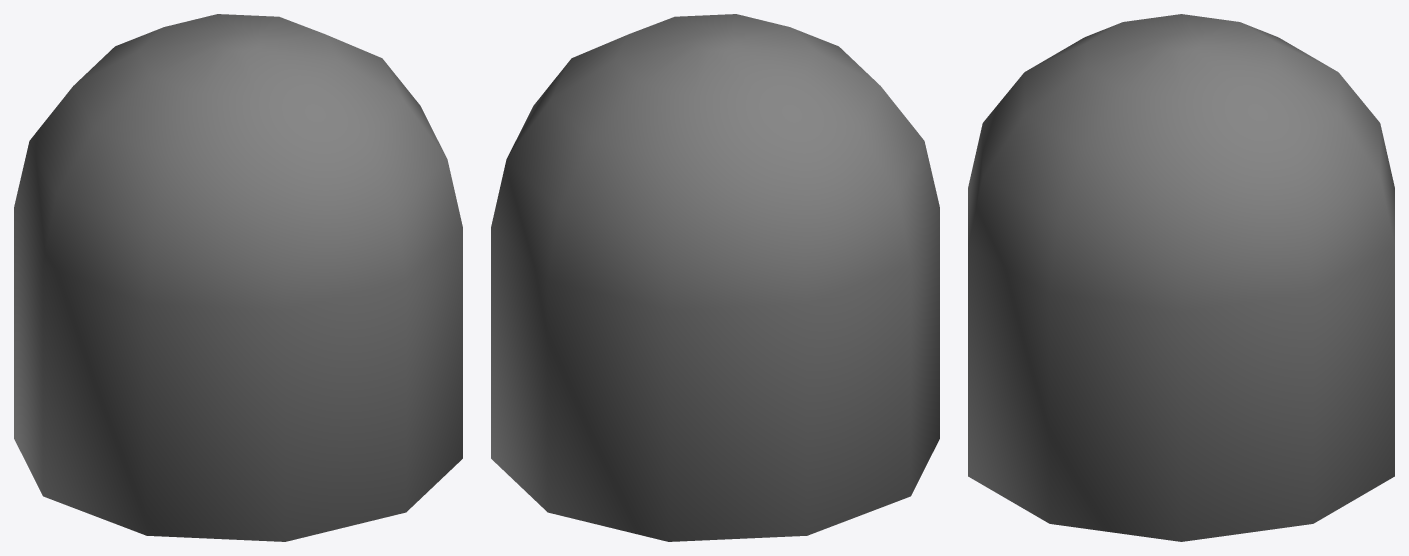
The model's file is Ghost_01.fbx.
The picture shows the model from 3 angles, left to right: view 1: azimuth 30°, elevation 25°; view 2: azimuth 150°, elevation 25°; view 3: azimuth 270°, elevation 25°; orthographic projection.
Visible parts, largest first — view 1: Ghost_01; view 2: Ghost_01; view 3: Ghost_01.
Boxes of the visible parts, x1,y1,x2,y2 form: Ghost_01: (14,14,462,541); Ghost_01: (491,14,939,541); Ghost_01: (968,14,1394,541).
Bounding box in the file's own units: 100 × 99.4 × 95.11.
1 material, 1 textured.
